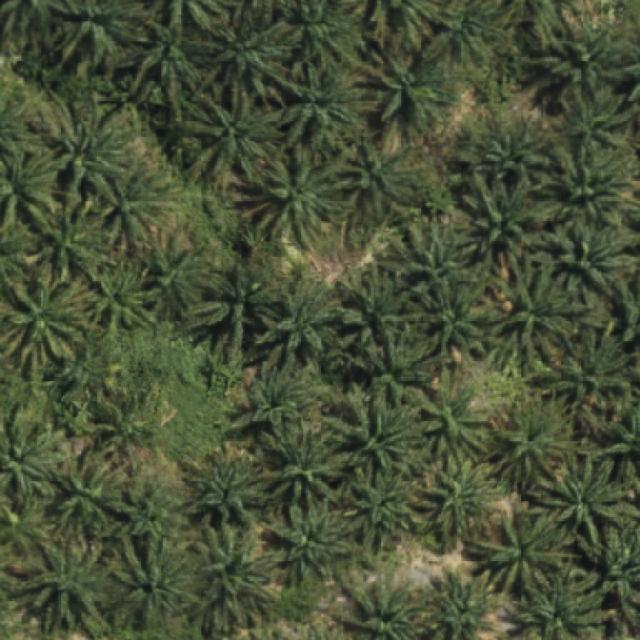Kelapa_Sawit: (177, 80, 292, 198), (113, 6, 224, 119), (202, 0, 309, 111), (266, 53, 382, 149), (238, 144, 340, 251), (468, 508, 584, 602), (8, 535, 110, 640), (524, 15, 636, 110), (348, 29, 457, 126), (187, 518, 275, 636), (534, 451, 640, 546), (193, 254, 289, 355), (538, 322, 638, 418), (490, 262, 595, 353), (332, 385, 428, 483), (45, 108, 137, 208), (108, 538, 203, 633), (255, 419, 351, 510), (269, 495, 360, 591), (340, 261, 422, 367), (340, 459, 431, 553), (22, 198, 120, 285), (254, 274, 346, 366), (543, 139, 640, 226), (489, 397, 576, 494), (335, 130, 427, 218), (457, 123, 560, 200), (392, 219, 483, 306), (229, 361, 325, 441), (416, 452, 504, 539), (78, 382, 160, 475), (462, 172, 547, 260), (544, 215, 633, 297), (343, 329, 435, 408), (46, 451, 126, 538), (552, 83, 638, 163), (182, 448, 270, 526), (413, 276, 490, 362), (418, 378, 496, 460), (98, 164, 173, 248), (142, 244, 210, 324), (93, 258, 162, 336), (120, 472, 189, 545)
